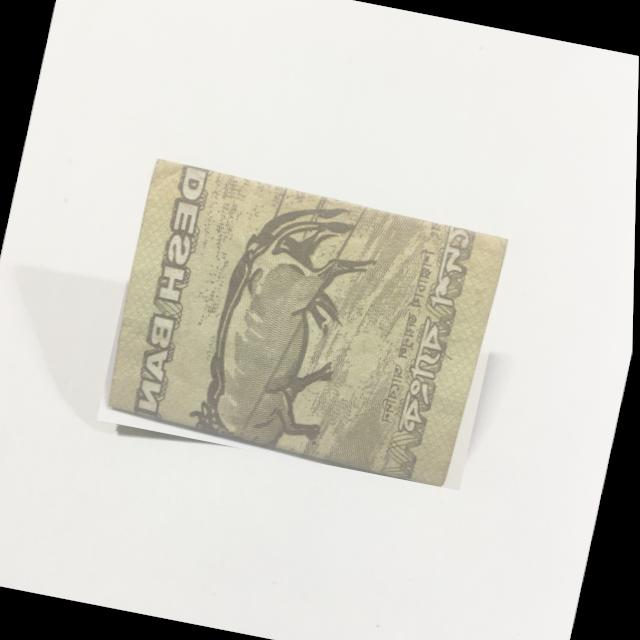Taka: (97, 150, 520, 491)
